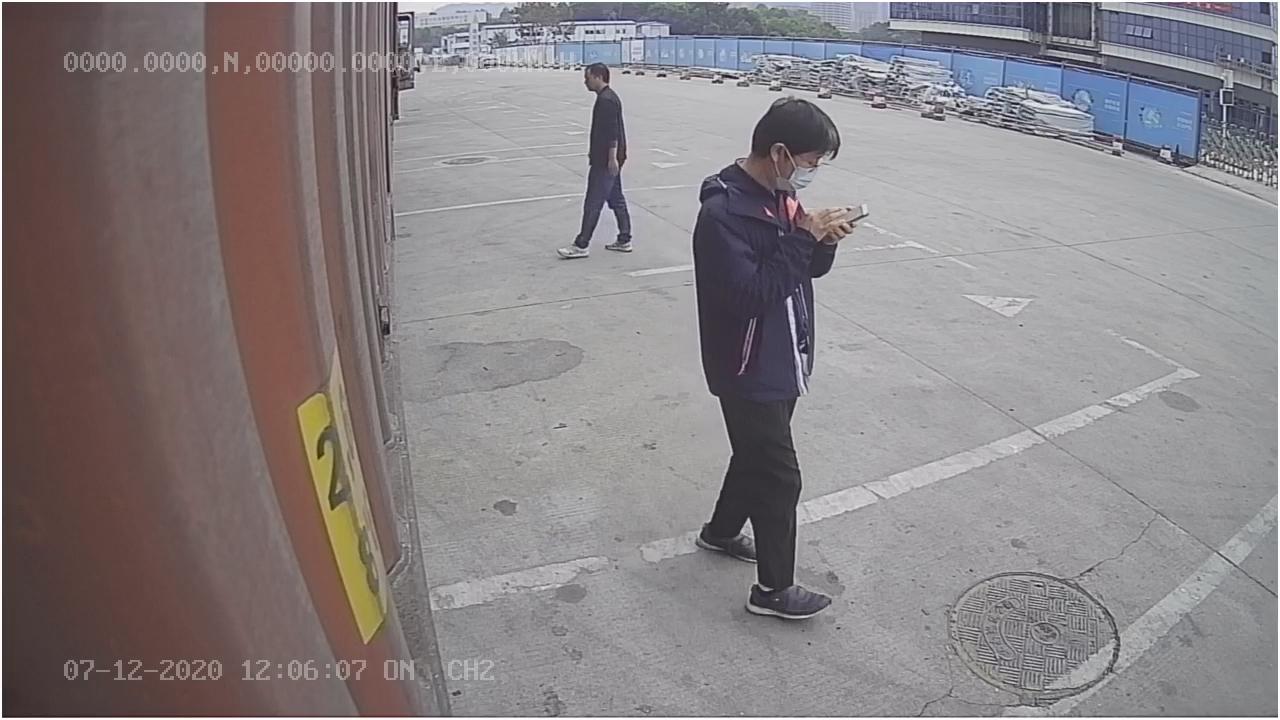person: (688, 93, 852, 622)
